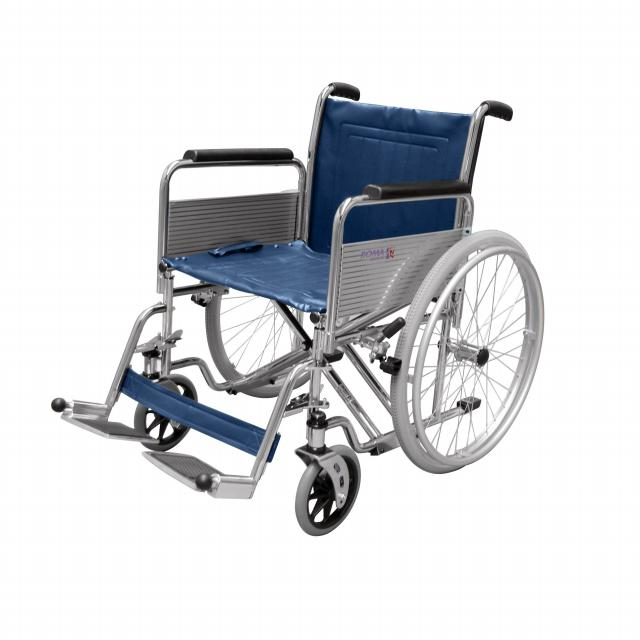wheelchair: (43, 61, 582, 549)
